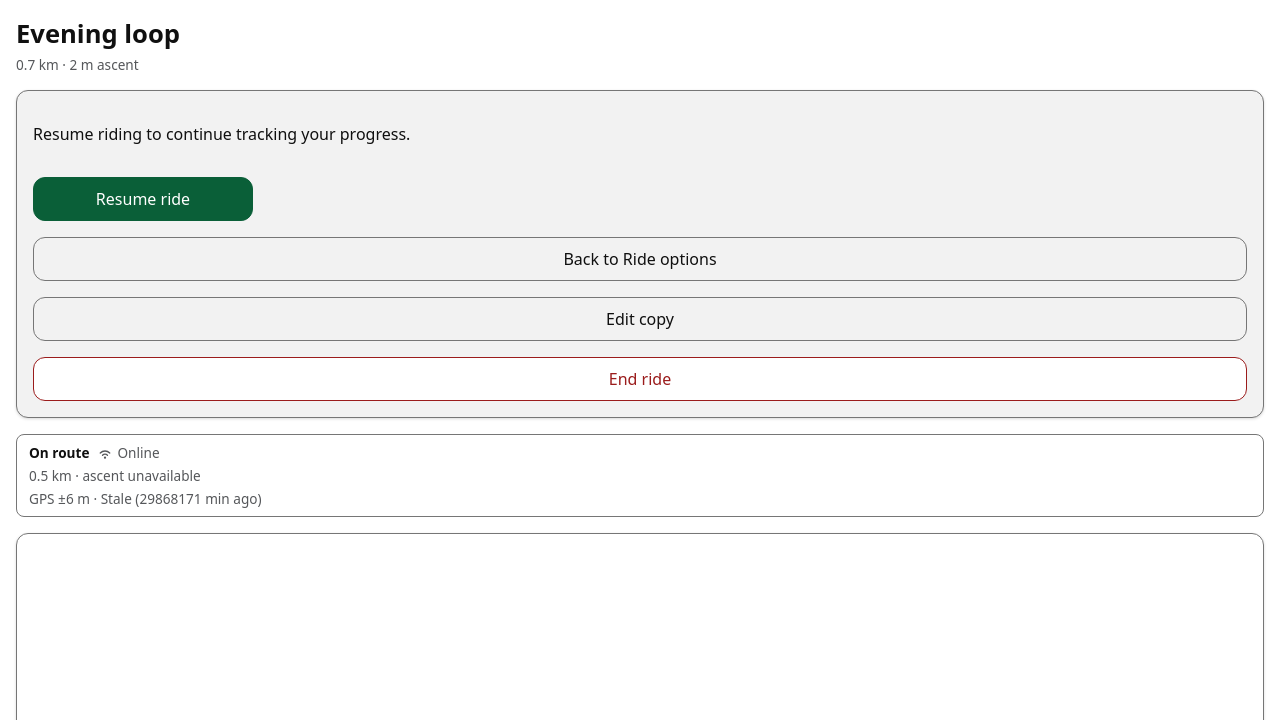
Scenario: RidingScreen — untrusted-GPX trust notice (backlog items 97 and 145) › episode boundaries (real timers) › shows the notice on an explicit Resume ride tap after a restored session
Expected: the text "No turn guidance available." is not shown
Click the button "Resume ride" at [143, 199], box [33, 177, 253, 221]
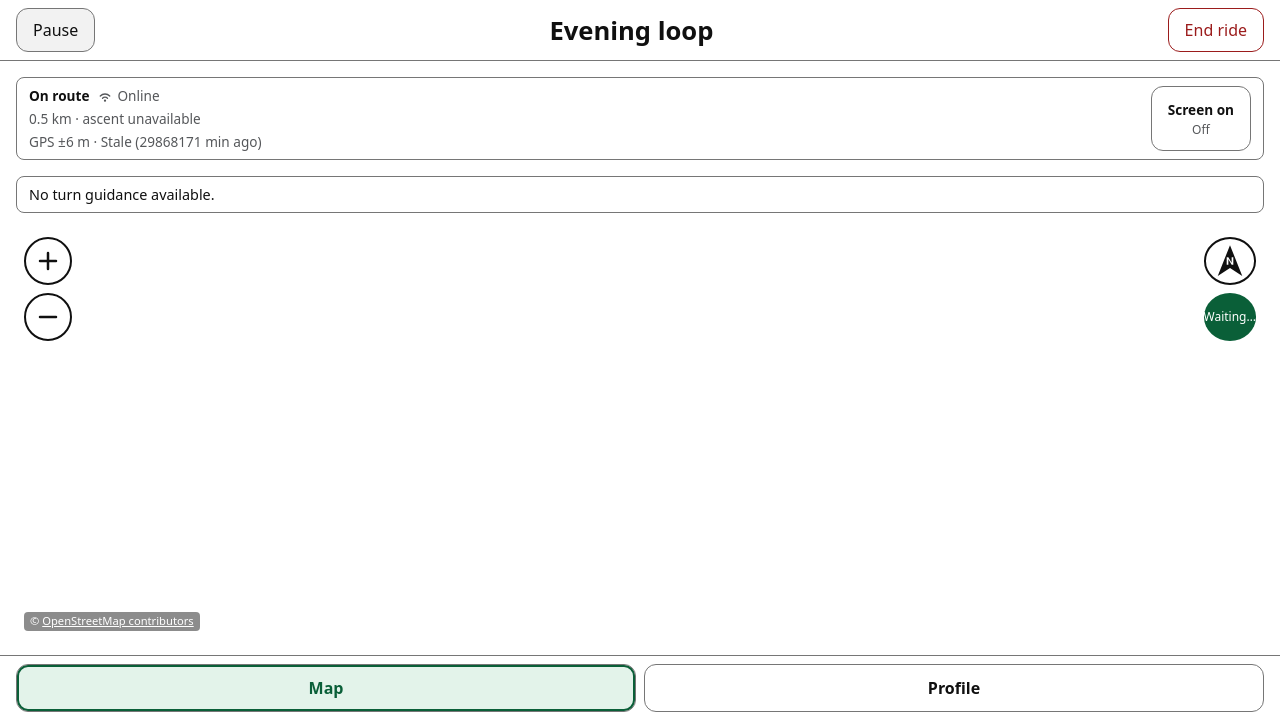
Expected: the text "No turn guidance available." is shown, [16, 176, 1264, 213]
